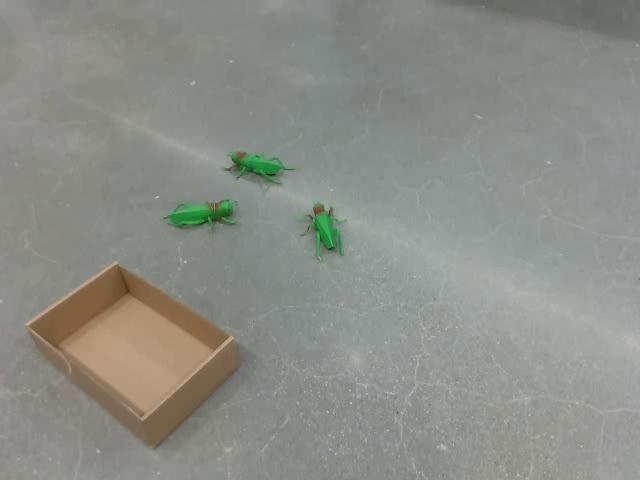box: (24, 260, 240, 449)
grasshopper: (299, 201, 347, 262), (162, 197, 238, 230), (224, 149, 295, 184)
